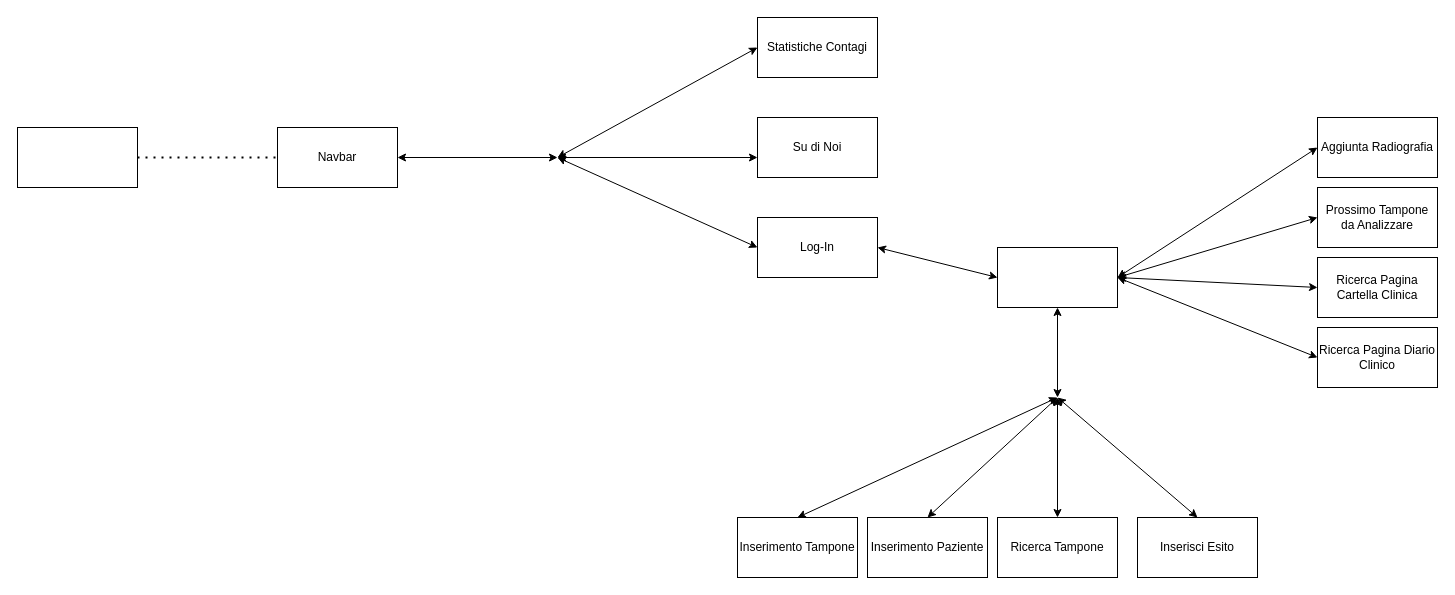
Image size: 1455x595. Some labels were removed from this diagram. The shapes that lost their labels are listed below. From the top down, each one's box as (x1, y1, x2, y2) in pixels, then its label:
(16, 126, 138, 188): HomePage
(996, 246, 1118, 308): Dashboard Operatore Sanitaio (Accesso Ristretto)
